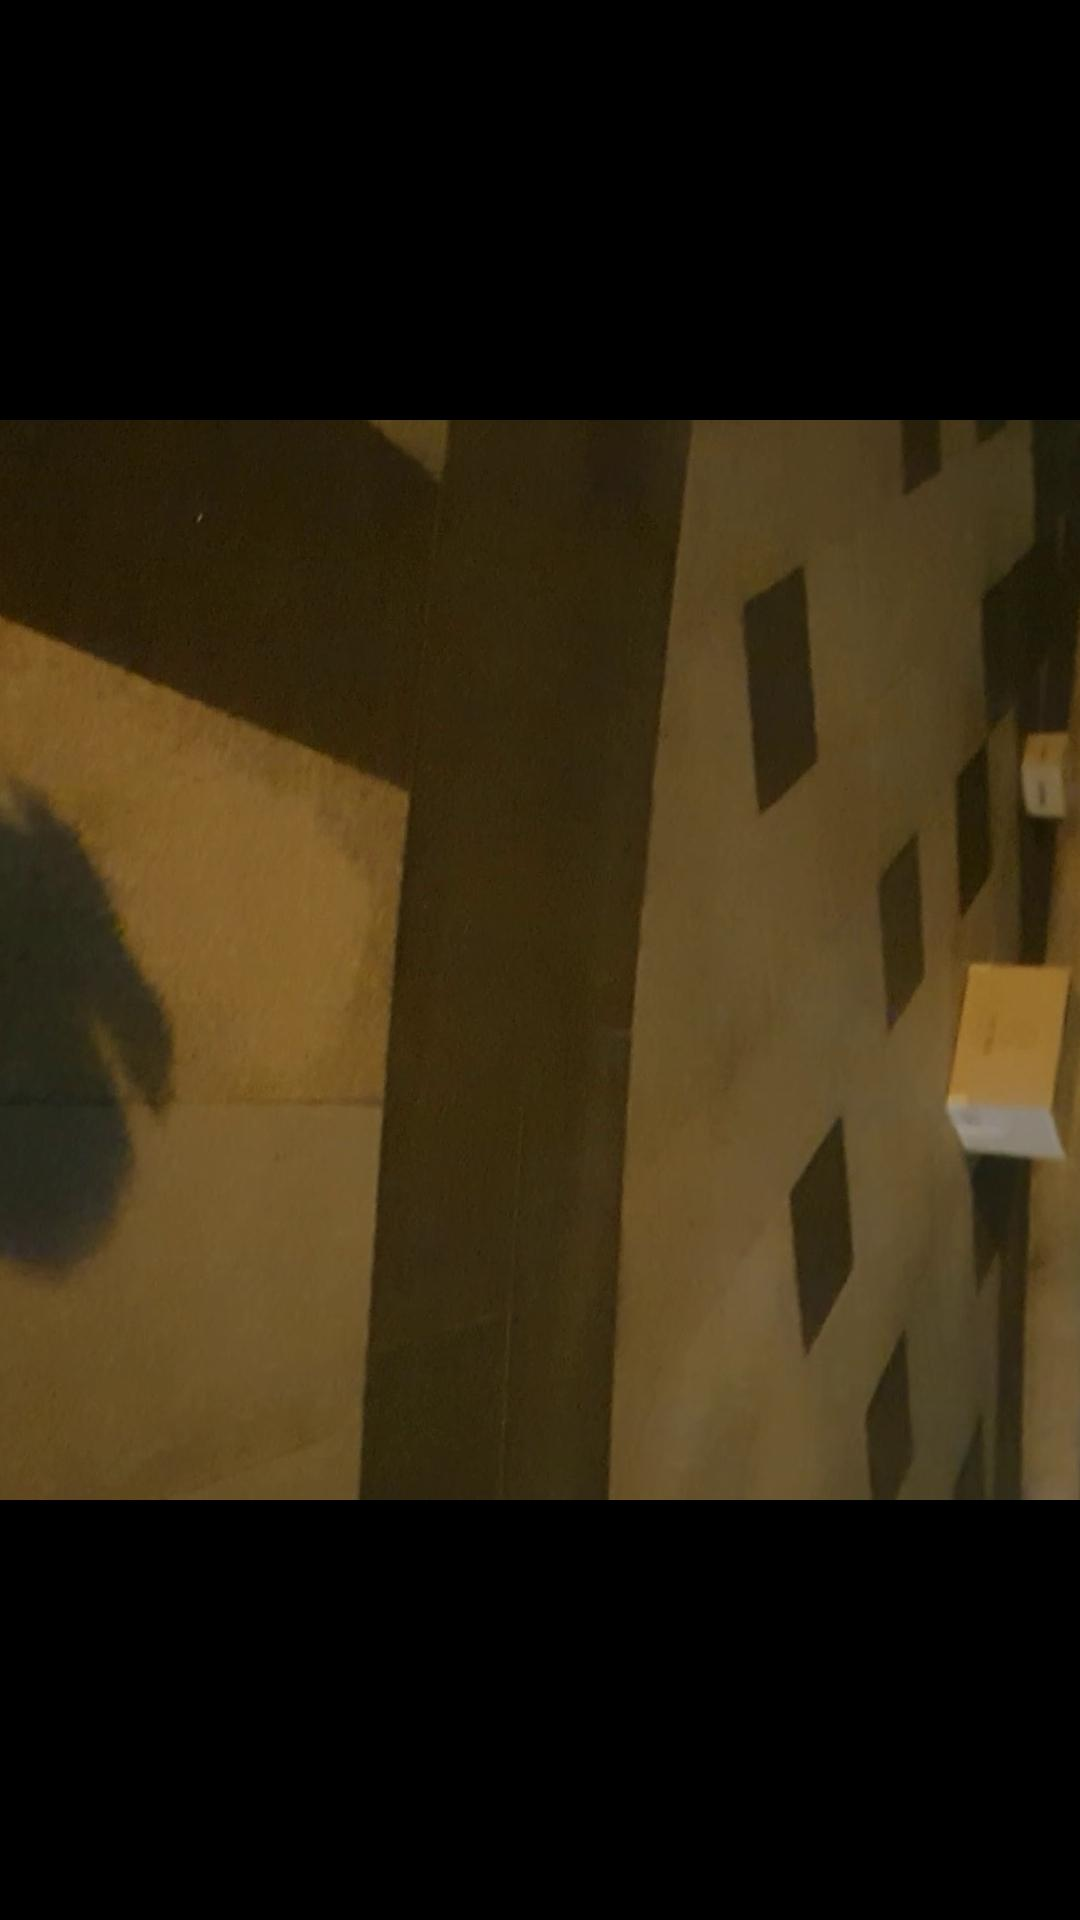Box: (930, 956, 1080, 1167), (1005, 711, 1080, 843)
